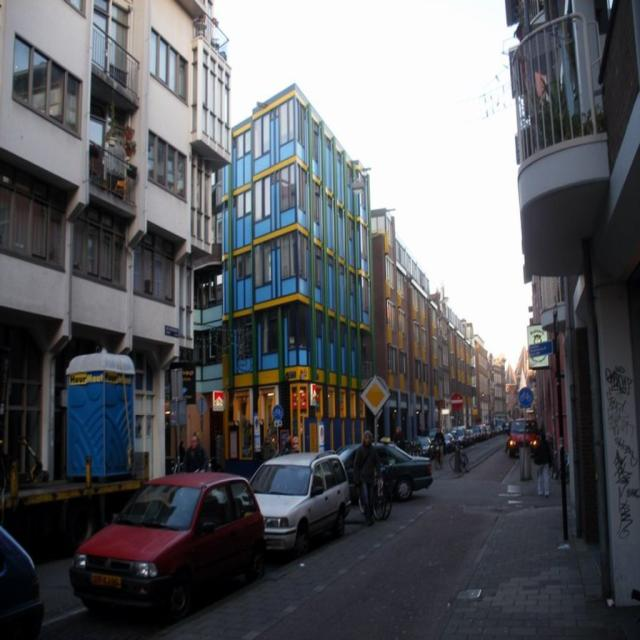car: (66, 473, 266, 625)
